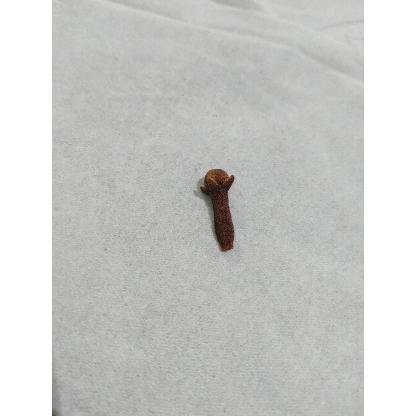baik: (198, 169, 235, 253)
